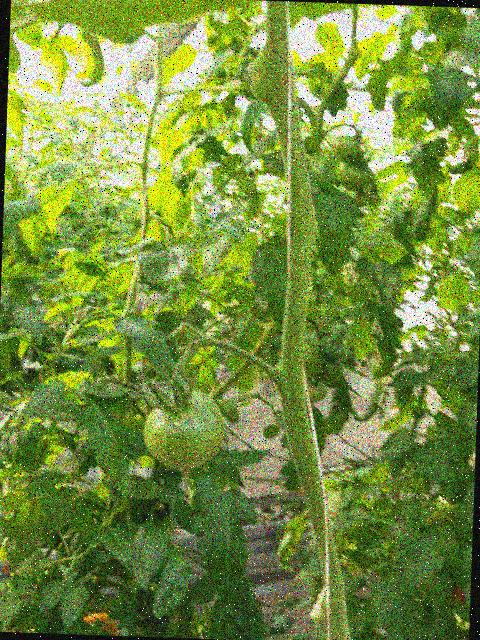b_green: (143, 388, 227, 470), (333, 134, 363, 164), (339, 165, 371, 192)
